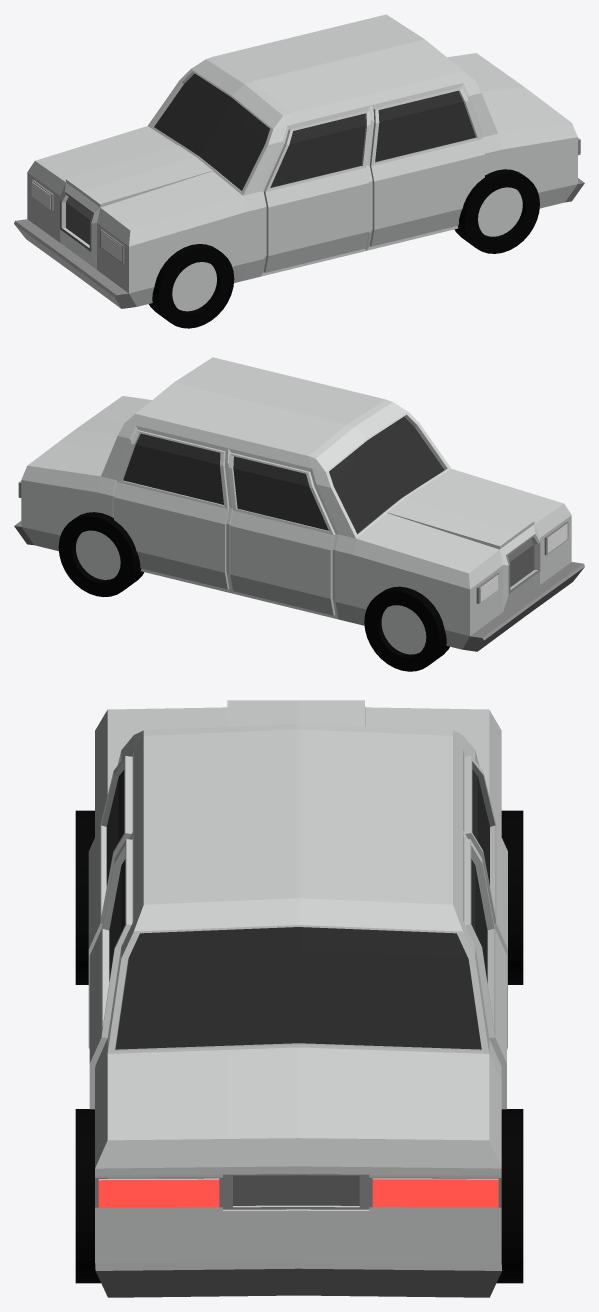
Rendered from car1 1.fbx.
The picture shows the model from 3 angles, top to bottom: view 1: azimuth 30°, elevation 25°; view 2: azimuth 150°, elevation 25°; view 3: azimuth 270°, elevation 25°; orthographic projection. The views are drawn at different scales.
Visible parts, largest first — view 1: Plane; view 2: Plane; view 3: Plane.
Part boxes in pixels (x1,y1,x2,y2): Plane: [14, 14, 584, 328]; Plane: [14, 357, 584, 671]; Plane: [75, 700, 523, 1297].
Bounding box in the file's own units: 411 × 149 × 170.
